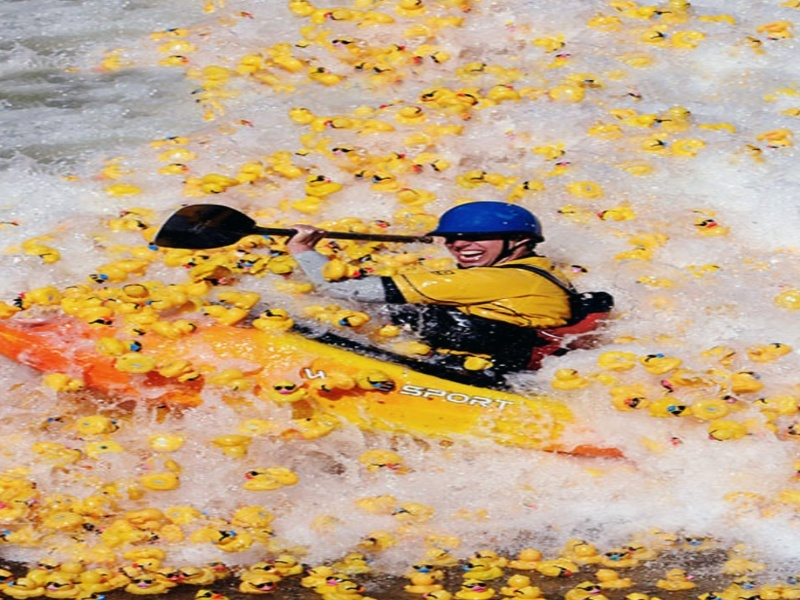baret: (428, 202, 545, 241)
